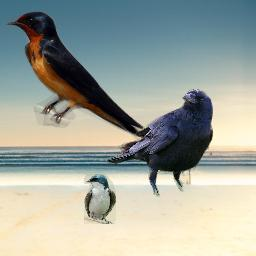Crow: (106, 89, 213, 197)
Swallow: (5, 11, 145, 140), (84, 174, 116, 224)
